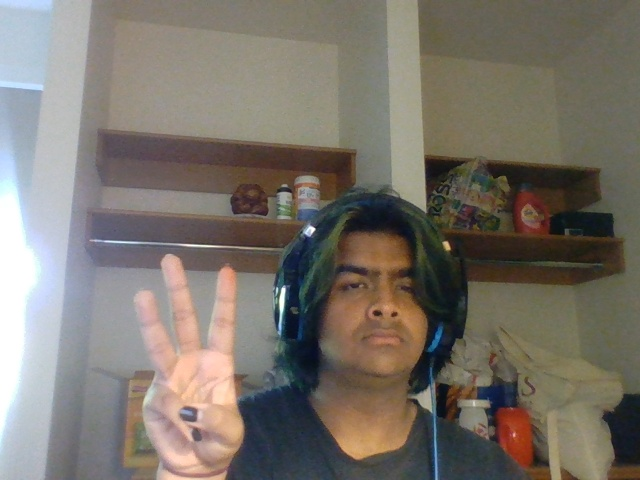w: (115, 253, 255, 476)
